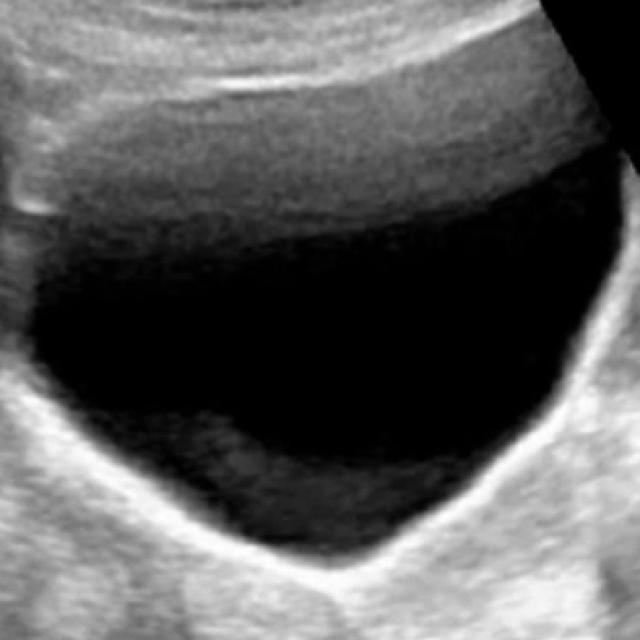bladder: (14, 2, 637, 605)
